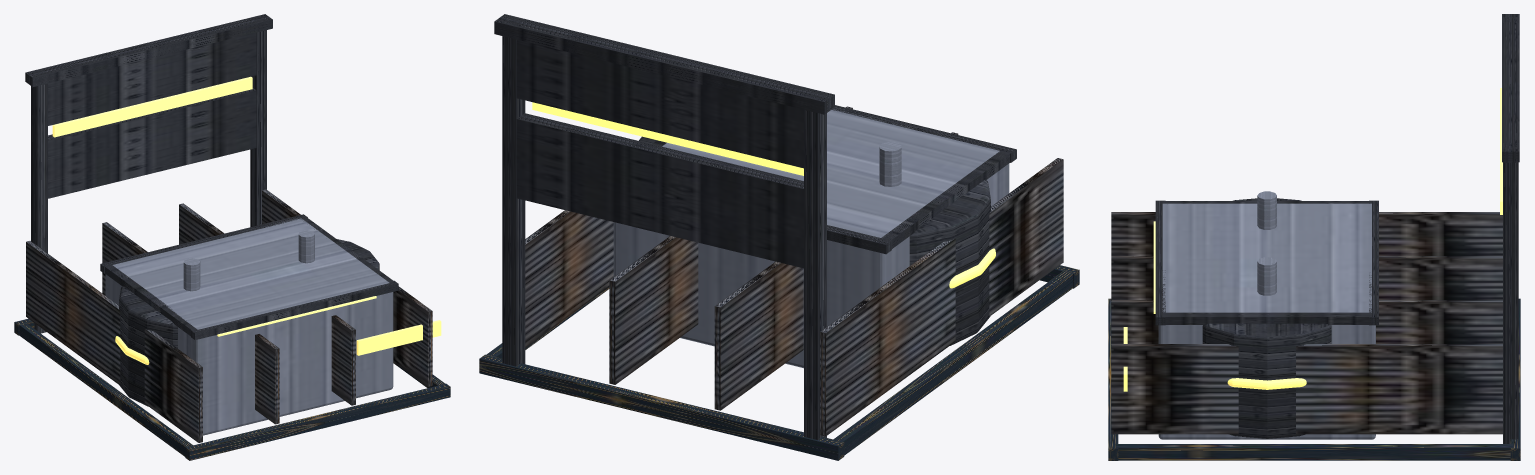
File: power_transformer.glb
3 renders of one model, left to right at view 1: azimuth 30°, elevation 25°; view 2: azimuth 150°, elevation 25°; view 3: azimuth 270°, elevation 25°, orthographic. The views are drawn at different scales.
Parts seen in each view (by area): view 1: sight_shell, core, fin0, shelltoe0, fin3, coil0, fin1, shelltoes0, fin2, sightglow, shellrim0, plate (+6 smaller); view 2: sight_shell, core, fin0, fin1, fin2, fin3, shelltoe2, coil0, shelltoes0, shellrims0, sightglow, shellrim0 (+2 smaller); view 3: fin3, core, coil1, fin2, fin0, fin1, sight_shell, shelltoes2, shellrims2, shellrim0, shellrim2, shelltoe0 (+5 smaller).
Part boxes in pixels (bbox=[...]): sight_shell: bbox=[25, 14, 272, 333]; core: bbox=[105, 218, 393, 435]; fin0: bbox=[26, 241, 202, 442]; shelltoe0: bbox=[185, 383, 450, 460]; fin3: bbox=[262, 189, 432, 386]; coil0: bbox=[119, 286, 177, 406]; fin1: bbox=[102, 222, 279, 424]; shelltoes0: bbox=[19, 323, 192, 456]; fin2: bbox=[179, 203, 355, 405]; sightglow: bbox=[52, 76, 252, 137]; shellrim0: bbox=[191, 280, 398, 339]; plate: bbox=[356, 320, 441, 355]; sight_shell: bbox=[494, 14, 834, 439]; core: bbox=[613, 109, 1009, 368]; fin0: bbox=[820, 158, 1063, 436]; fin1: bbox=[714, 132, 958, 410]; fin2: bbox=[609, 106, 852, 384]; fin3: bbox=[525, 210, 613, 347]; shelltoe2: bbox=[479, 354, 844, 460]; coil0: bbox=[909, 179, 990, 345]; shelltoes0: bbox=[832, 270, 1073, 455]; shellrims0: bbox=[880, 151, 1010, 248]; sightglow: bbox=[532, 102, 803, 175]; shellrim0: bbox=[831, 105, 1016, 162]; fin3: bbox=[1111, 344, 1502, 434]; core: bbox=[1158, 203, 1375, 439]; coil1: bbox=[1202, 323, 1331, 438]; fin2: bbox=[1111, 300, 1502, 343]; fin0: bbox=[1111, 212, 1502, 255]; fin1: bbox=[1111, 256, 1502, 299]; sight_shell: bbox=[1502, 14, 1519, 443]; shelltoes2: bbox=[1115, 444, 1513, 460]; shellrims2: bbox=[1162, 312, 1371, 324]; shellrim0: bbox=[1155, 200, 1165, 325]; shellrim2: bbox=[1369, 200, 1378, 325]; shelltoe0: bbox=[1108, 298, 1118, 460].
Bounding box in the file's own units: 1.8 × 1.7 × 2.09.
8 materials, 6 textured.
